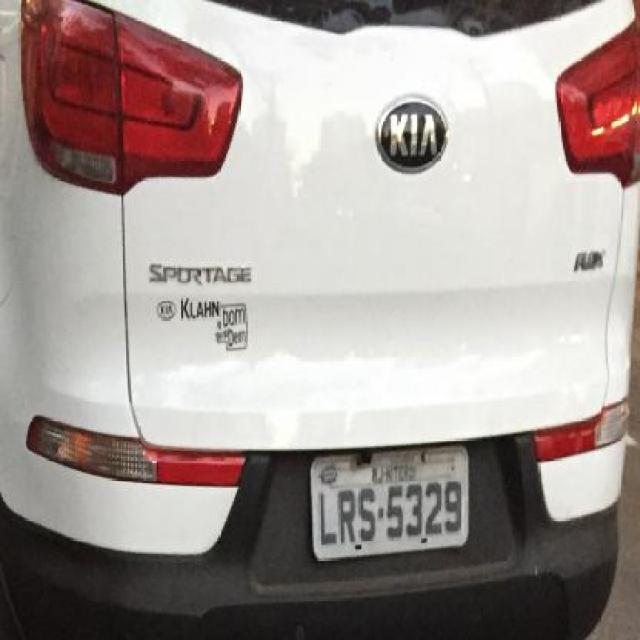old_plate: (304, 438, 473, 567)
